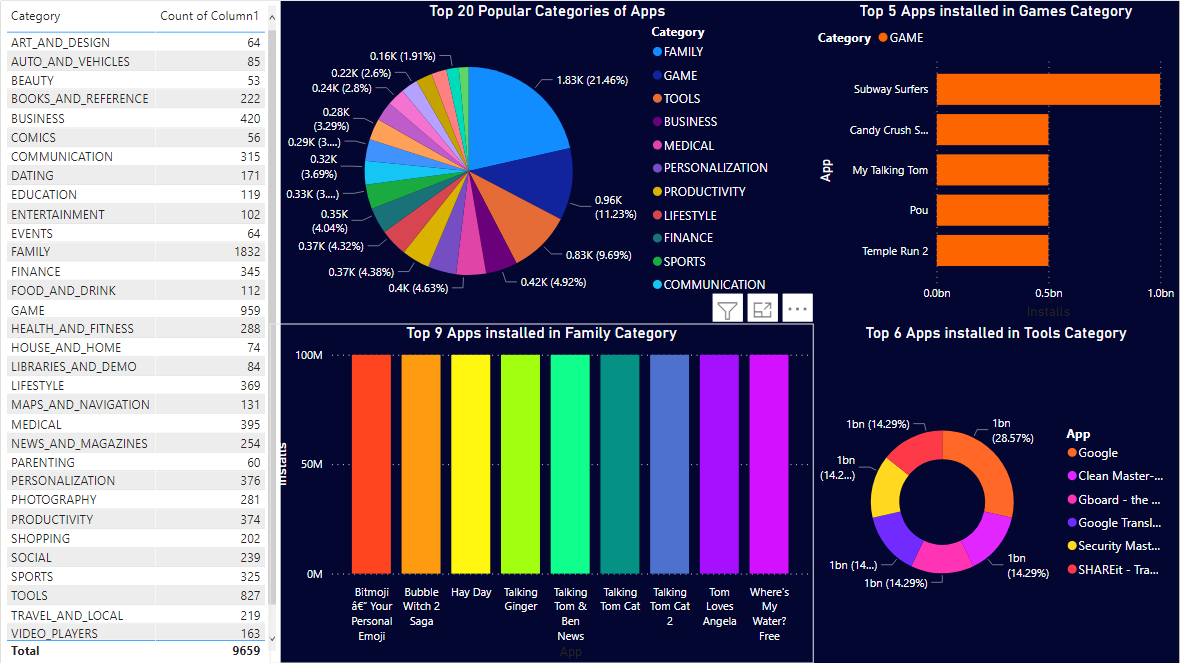

The dashboard page shown, as its layout file describes it:
{"tool":"powerbi","page":{"name":"Page 1","canvas":[1280,720],"ordinal":0},"visuals":[{"type":"tableEx","fields":{"Values":["apps.Category","Count(apps.Column1)"]},"box":[0,0,304.4,720.2],"z":0},{"type":"pieChart","title":"Top 20 Popular Categories of Apps","fields":{"Category":["apps.Category"],"Y":["Count(apps.Column1)"]},"box":[304.4,0,578.9,350.6],"z":1000},{"type":"clusteredColumnChart","title":"Top 5 Apps installed in Family Category","fields":{"Category":["apps.App"],"Y":["Sum(apps.Installs)"]},"box":[292.1,350.6,591.1,369.6],"z":2000},{"type":"clusteredBarChart","title":"Top 5 Apps installed in Games Category","fields":{"Category":["apps.App"],"Y":["Sum(apps.Installs)"],"Series":["apps.Category"]},"box":[883.2,0,396.8,350.6],"z":3000},{"type":"donutChart","title":"Top 5 Apps installed in Tools Category","fields":{"Category":["apps.App"],"Series":["apps.Category"],"Y":["Sum(apps.Installs)"]},"box":[883,351,397,369],"z":4000}]}

Visuals, with their boxes on the page's 1280x720 design canvas (x1, y1, x2, y2). These are canvas units, not pixel positions in the 1180x666 screenshot, which may show the page scaled, cropped or inside an application window:
tableEx - apps.Category x Count(apps.Column1): 0,0,304,720
"Top 20 Popular Categories of Apps" pieChart: 304,0,883,351
"Top 5 Apps installed in Family Category" clusteredColumnChart: 292,351,883,720
"Top 5 Apps installed in Games Category" clusteredBarChart: 883,0,1280,351
"Top 5 Apps installed in Tools Category" donutChart: 883,351,1280,720
